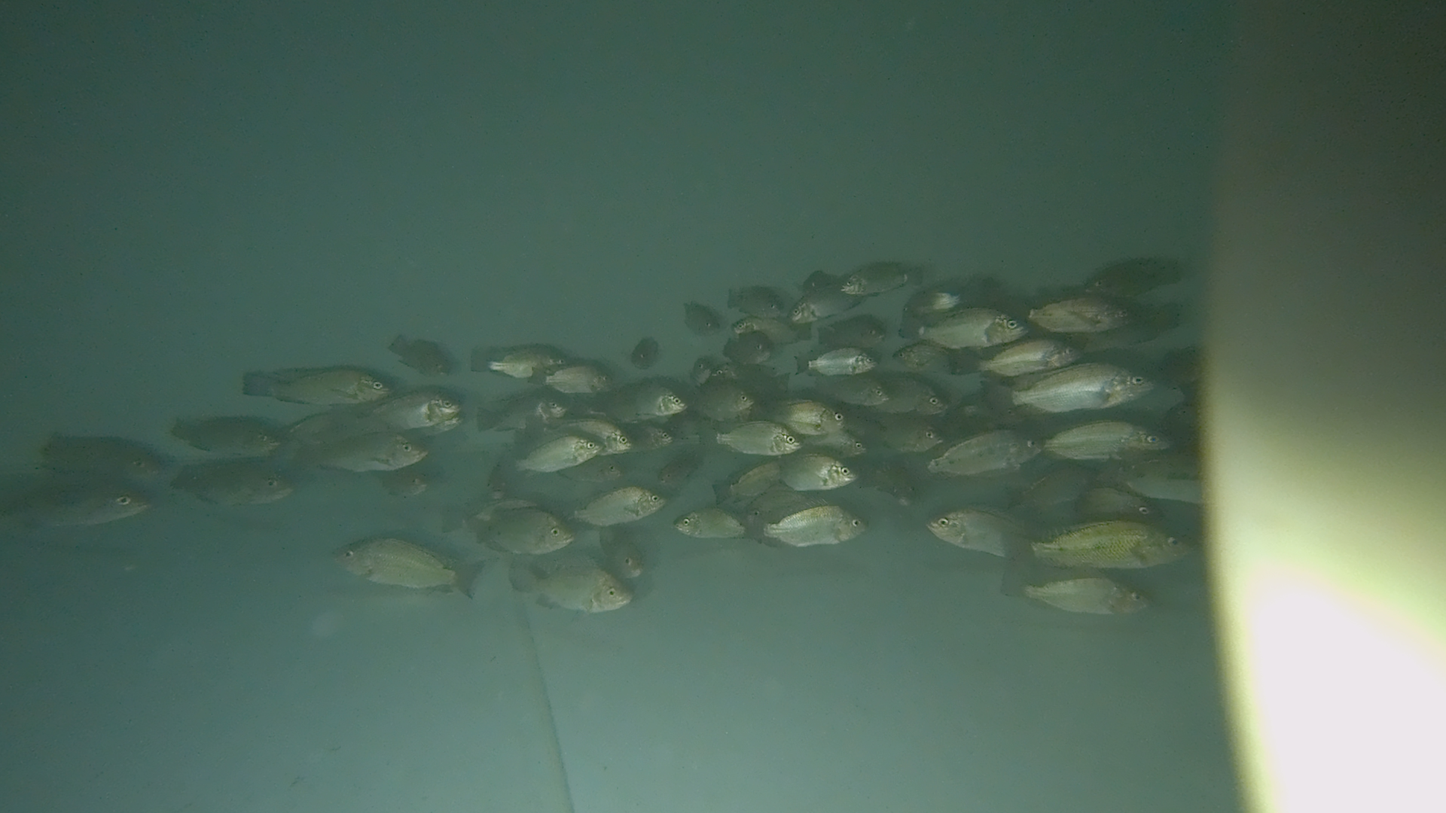fish: (983, 361, 1156, 412), (896, 306, 1028, 347), (742, 504, 870, 546), (697, 418, 804, 457), (530, 363, 616, 396), (791, 347, 879, 378)
